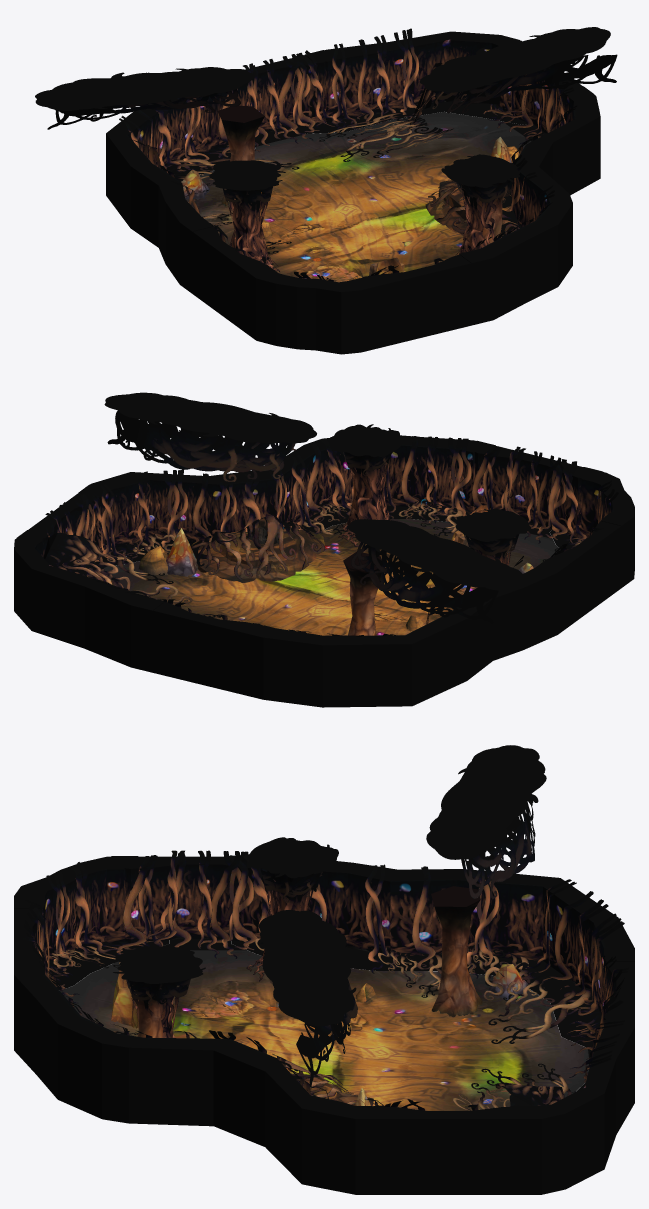
The model's file is Dungeon_021_BossRoom.fbx.
3 views of the same model, one above another, from view 1: azimuth 30°, elevation 25°; view 2: azimuth 150°, elevation 25°; view 3: azimuth 270°, elevation 25° (orthographic). The views are drawn at different scales.
Visible parts, largest first — view 1: Dun_021_Room_003_wall, Dun_021_Room_003_ground, Dungeon_021_Object_025, un_021_Door_002 (×4), Dungeon_021_Object_021, un_021_Door_002_Object1 (×2), Dungeon_021_Object_024, Dungeon_021_Object_010, Dungeon_021_Object_012, Dungeon_011_Object_010 (×2), Dun_011_Room_003_shadow, Dungeon_021_Object_013 (+6 smaller); view 2: Dun_021_Room_003_wall, Dungeon_021_Object_025, un_021_Door_002 (×4), Dun_021_Room_003_ground, Dungeon_021_Object_021, un_021_Door_002_Object1 (×2), Dungeon_021_Object_015, Dungeon_021_Object_016, Dungeon_021_Object_024, Dungeon_021_Object_012, Dungeon_021_Object_010, Dungeon_021_Object_022 (+5 smaller); view 3: Dun_021_Room_003_wall, Dun_021_Room_003_ground, un_021_Door_002 (×4), Dungeon_021_Object_025, Dungeon_021_Object_021, un_021_Door_002_Object1 (×3), Dun_011_Room_003_shadow, Dungeon_011_Object_010 (×2), Dungeon_021_Object_022, Dungeon_021_Object_012, Dungeon_021_Object_010, Dungeon_021_Object_024 (+6 smaller).
Part boxes in pixels (x1,y1,x2,y2): Dun_021_Room_003_wall: (106, 31, 600, 354); Dun_021_Room_003_ground: (186, 112, 531, 282); Dungeon_021_Object_025: (35, 27, 617, 129); un_021_Door_002 (×4): (182, 40, 593, 346); Dungeon_021_Object_021: (119, 28, 576, 281); un_021_Door_002_Object1 (×2): (218, 50, 573, 157); Dungeon_021_Object_024: (319, 62, 501, 161); Dungeon_021_Object_010: (441, 154, 519, 203); Dungeon_021_Object_012: (209, 160, 285, 206); Dungeon_011_Object_010 (×2): (217, 105, 511, 244); Dun_011_Room_003_shadow: (163, 101, 527, 181); Dungeon_021_Object_013: (226, 192, 279, 271); Dun_021_Room_003_wall: (14, 435, 634, 707); Dungeon_021_Object_025: (104, 392, 523, 624); un_021_Door_002 (×4): (17, 440, 631, 694); Dun_021_Room_003_ground: (104, 519, 560, 635); Dungeon_021_Object_021: (73, 436, 618, 636); un_021_Door_002_Object1 (×2): (44, 445, 586, 562); Dungeon_021_Object_015: (192, 518, 324, 582); Dungeon_021_Object_016: (190, 514, 325, 580); Dungeon_021_Object_024: (43, 532, 215, 617); Dungeon_021_Object_012: (455, 508, 531, 557); Dungeon_021_Object_010: (330, 424, 403, 475); Dungeon_021_Object_022: (106, 499, 583, 614); Dun_021_Room_003_wall: (14, 856, 634, 1194); Dun_021_Room_003_ground: (60, 950, 588, 1110); un_021_Door_002 (×4): (14, 856, 634, 1194); Dungeon_021_Object_025: (257, 745, 546, 1087); Dungeon_021_Object_021: (40, 856, 624, 1105); un_021_Door_002_Object1 (×3): (20, 850, 628, 1082); Dun_011_Room_003_shadow: (46, 940, 601, 1091); Dungeon_011_Object_010 (×2): (132, 886, 482, 1037); Dungeon_021_Object_022: (49, 938, 591, 1043); Dungeon_021_Object_012: (247, 837, 338, 902); Dungeon_021_Object_010: (113, 946, 205, 1005); Dungeon_021_Object_024: (453, 1063, 571, 1110).
Size of what is drawn, in the model's own units: 17.57 by 4.55 by 15.
